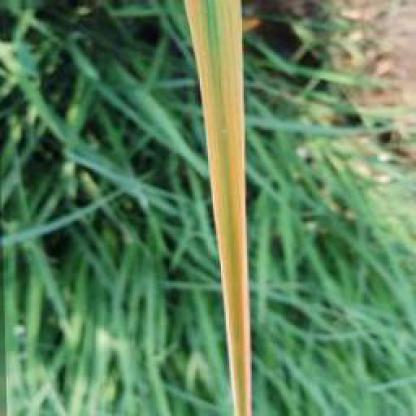Tungro: (183, 3, 253, 416)
